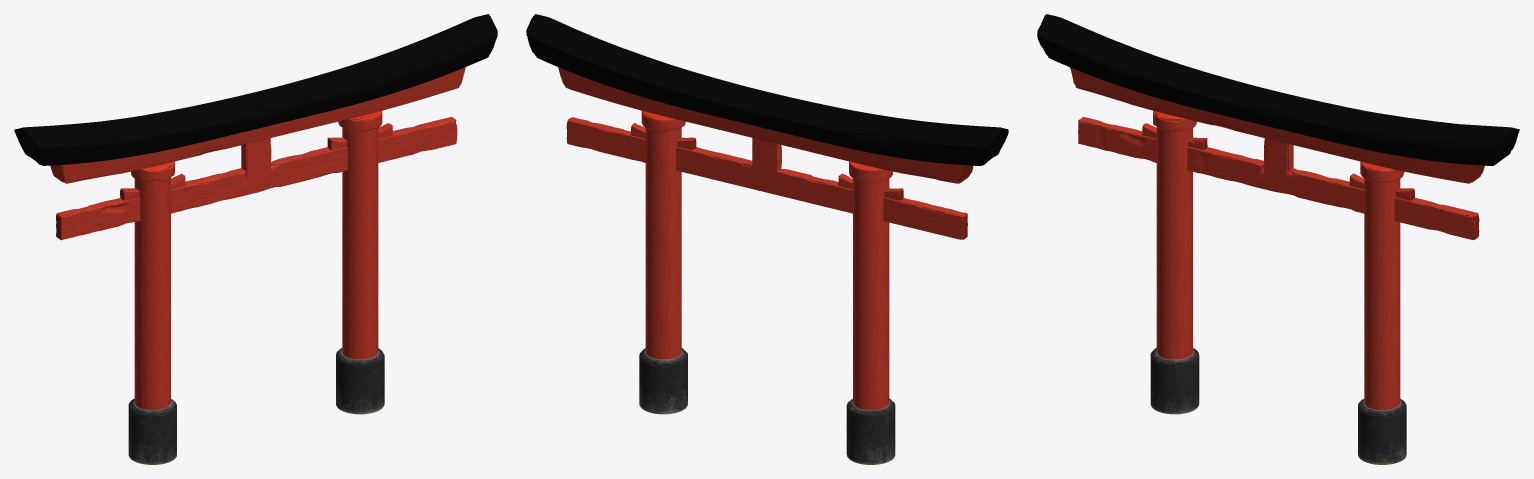
3 views of the same model, side by side, from view 1: azimuth 30°, elevation 25°; view 2: azimuth 150°, elevation 25°; view 3: azimuth 330°, elevation 25° (orthographic).
Parts seen in each view (by area): view 1: Cube.001; view 2: Cube.001; view 3: Cube.001.
Boxes of the visible parts, <box> form: Cube.001: <box>14,14,497,464</box>; Cube.001: <box>526,14,1008,464</box>; Cube.001: <box>1037,14,1519,464</box>.
Size of the model in its own units: 2.28 by 1.67 by 0.2054.
Materials: 1 (1 with a texture image).
